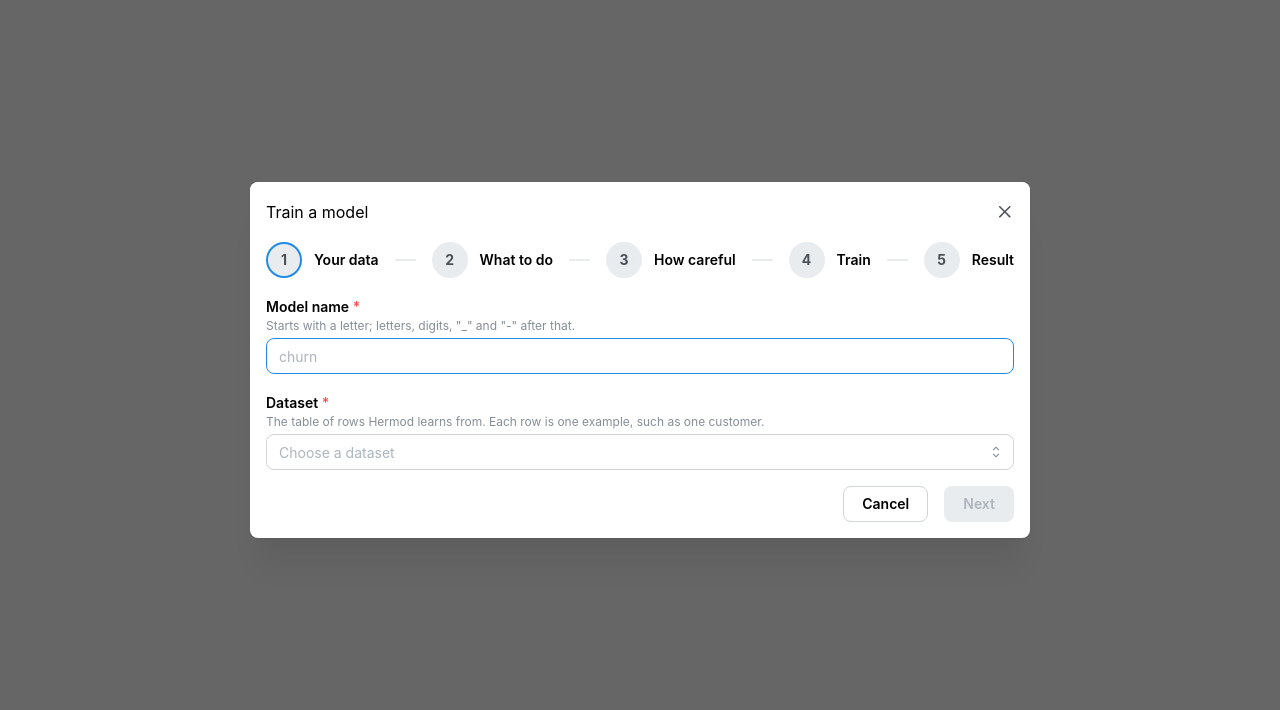
Training a recommendation scenario in the guided dialog › opens the data guide from the scenario step
Type "plan" into the field labelled "Model name *" at (640, 356), box [266, 338, 1014, 374]
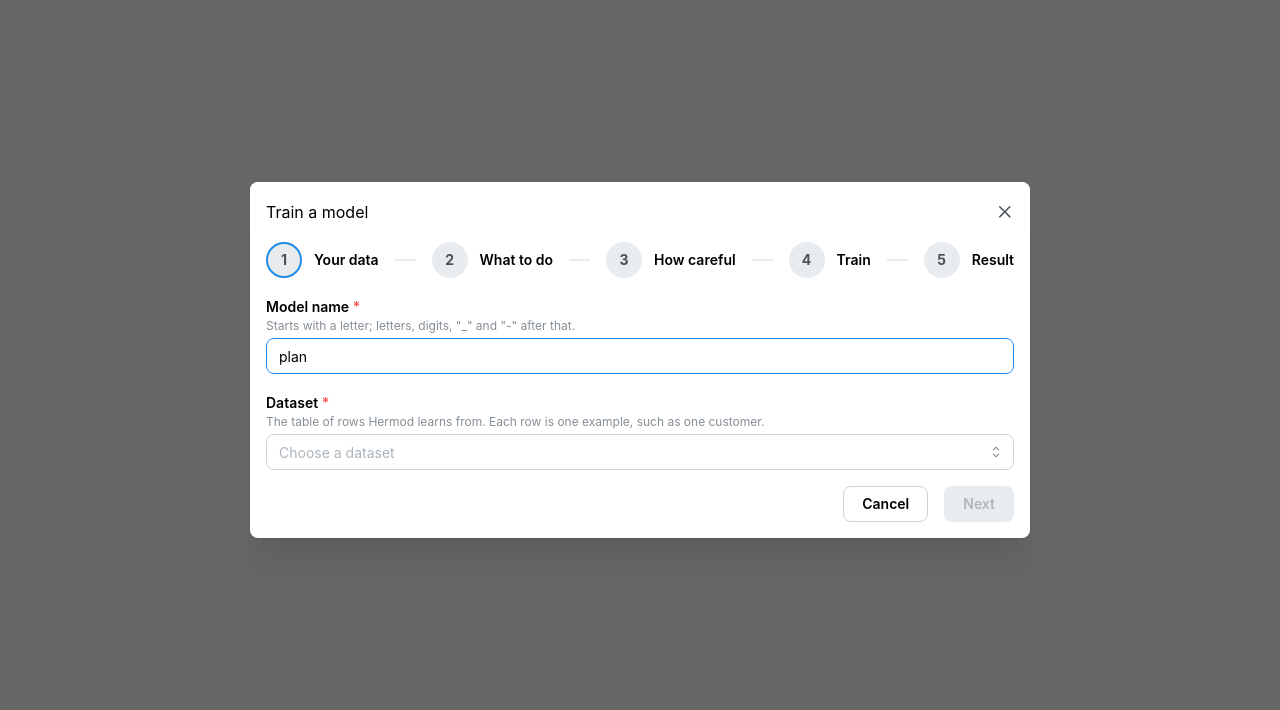
Click the dropdown labelled "Dataset *" at (640, 452), box [266, 434, 1014, 470]
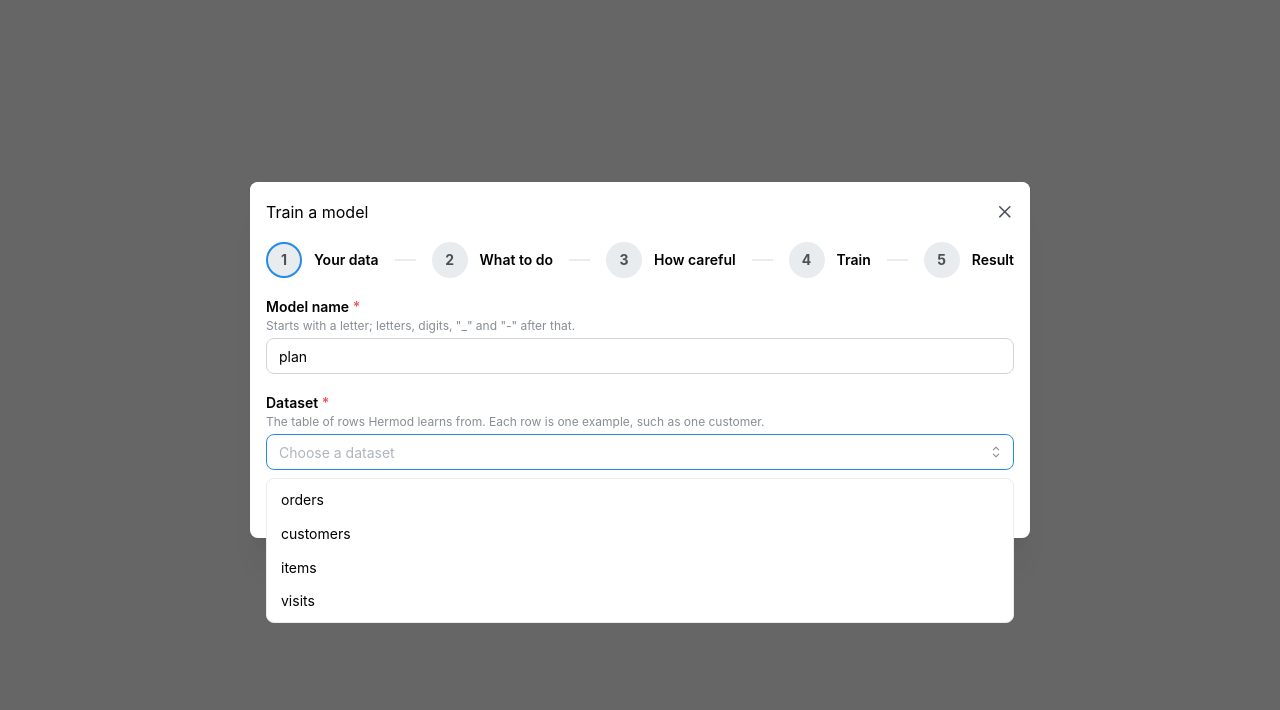
Click the option "orders" at (302, 500), box [281, 491, 324, 508]
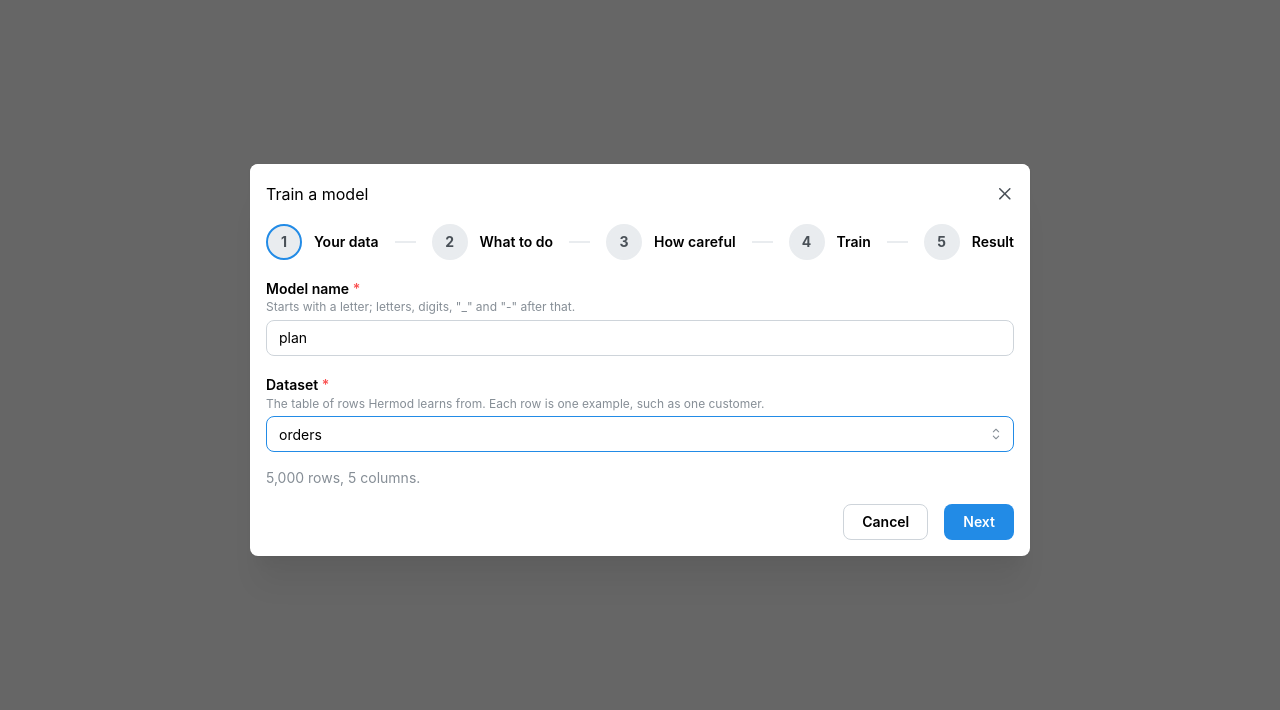
Click the button "Next" at (979, 522), box [944, 504, 1014, 540]
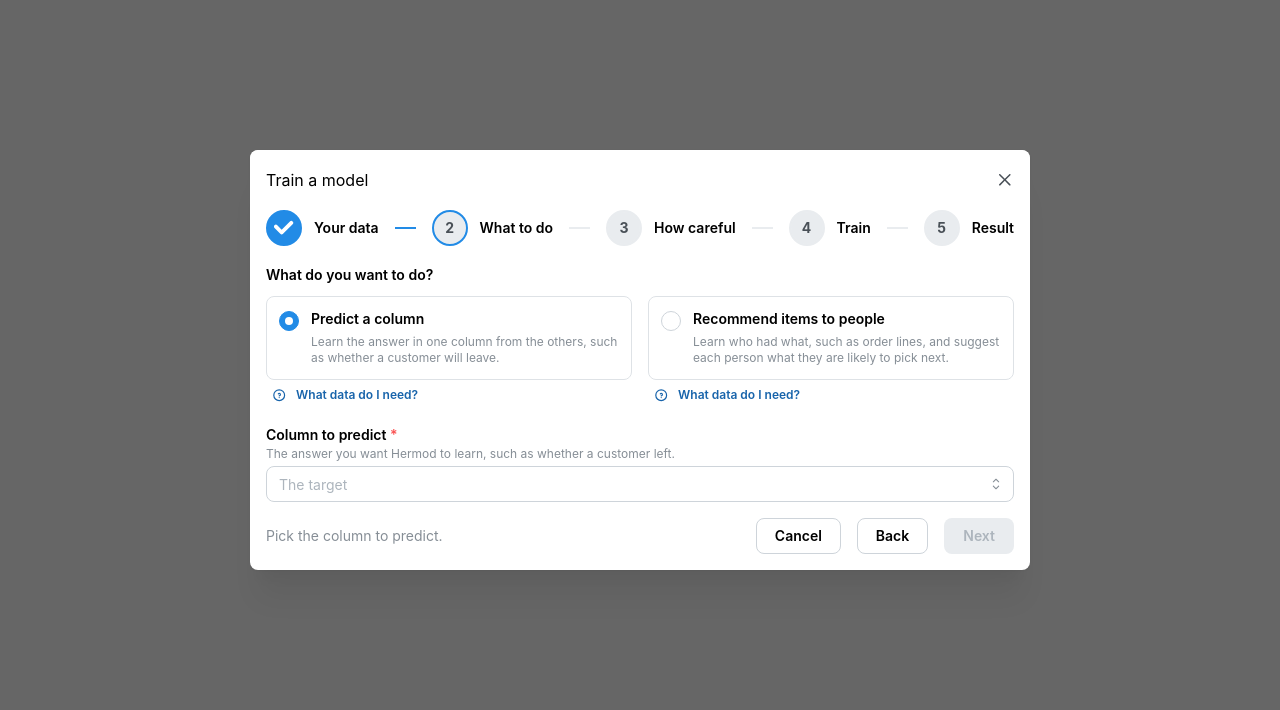
Click the radio button labelled "Recommend items to people" at (831, 338), box [648, 296, 1014, 380]
(page scrolled)
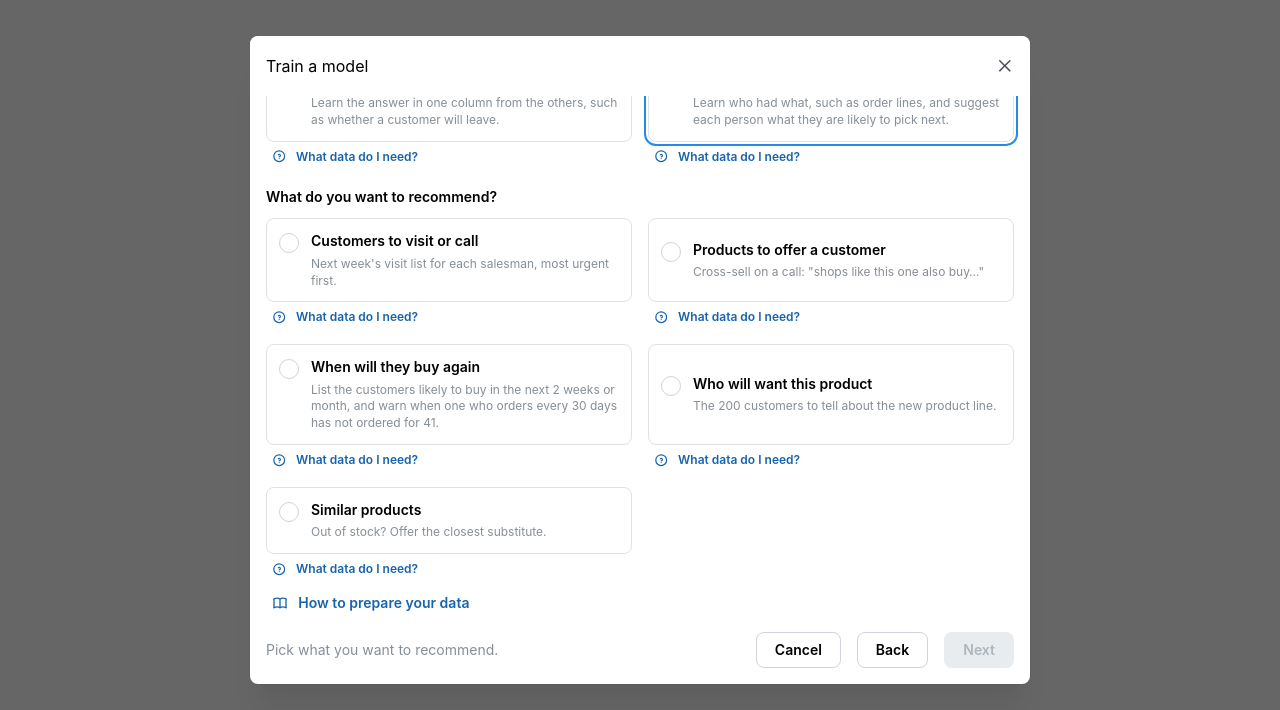
Click the button "How to prepare your data" at (372, 603), box [266, 590, 478, 616]
(page scrolled)
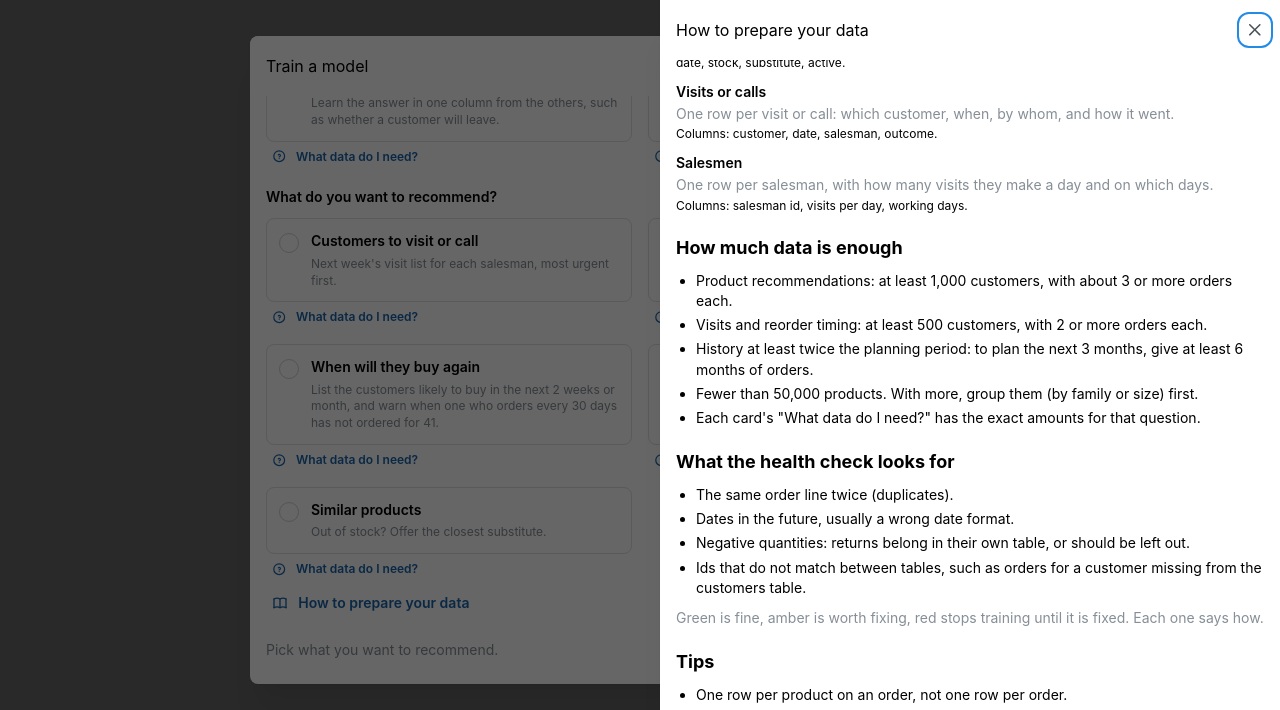
Now the text "at least 1,000 customers" is shown, box [696, 271, 1264, 311]
Now the text "twice the planning period" is shown, box [696, 340, 1243, 378]
